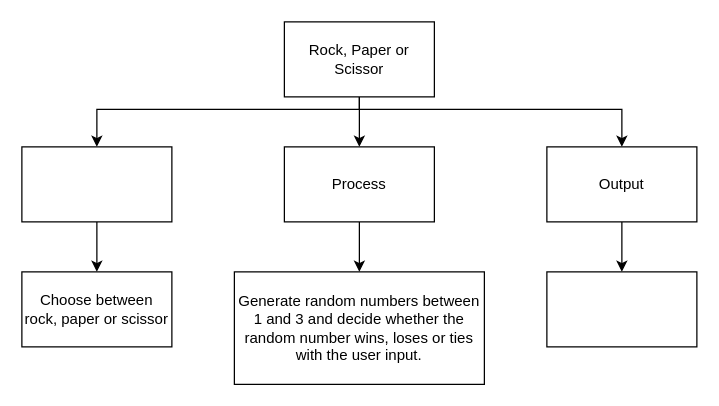
Image size: 719x406. Some labels were removed from this diagram. Each missing label, with the box of its shape:
Input: (21, 146, 172, 222)
Print the whether user wins or loses: (546, 271, 697, 347)
